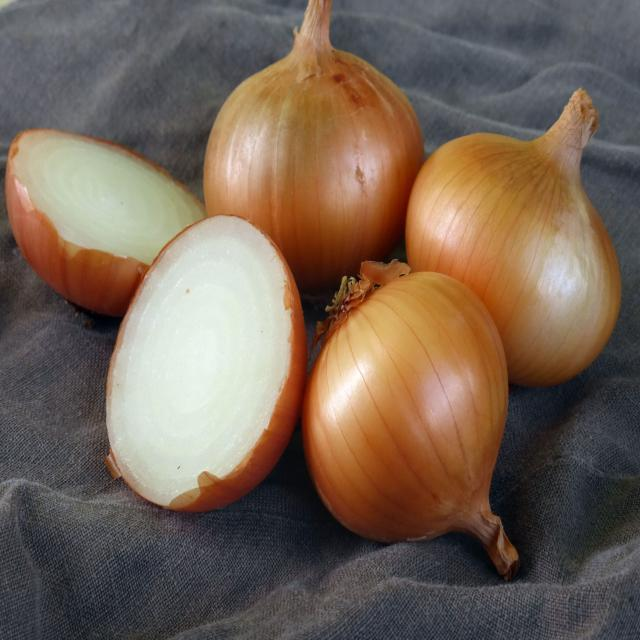onion: (304, 260, 526, 590), (411, 79, 621, 399), (102, 209, 310, 514), (206, 0, 423, 282), (8, 137, 209, 314)
